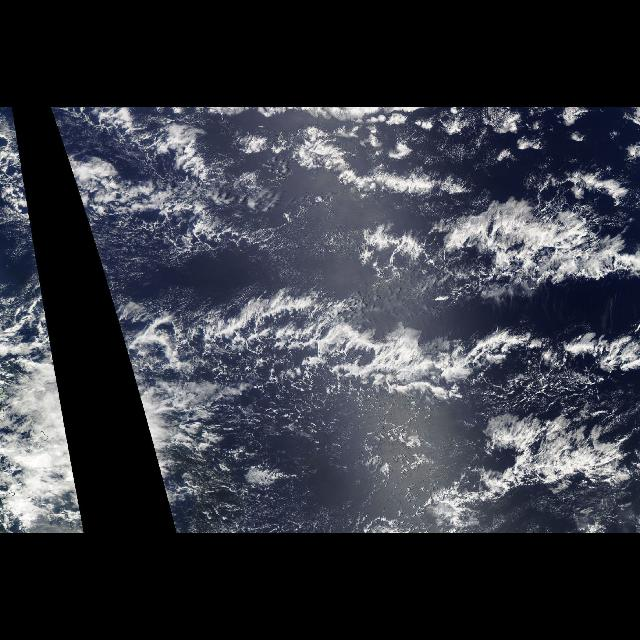Fish: (134, 195, 640, 530)
